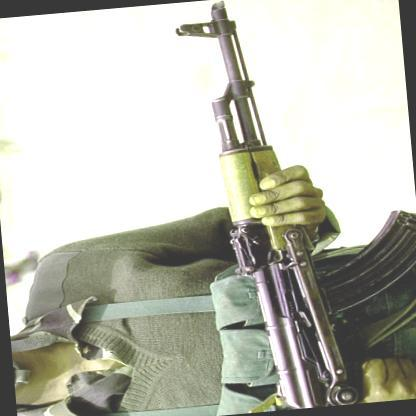rifle: (177, 0, 416, 416)
